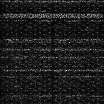lte: (1, 13, 104, 19), (1, 39, 104, 43), (1, 47, 104, 51), (1, 68, 103, 72), (1, 1, 104, 2)
